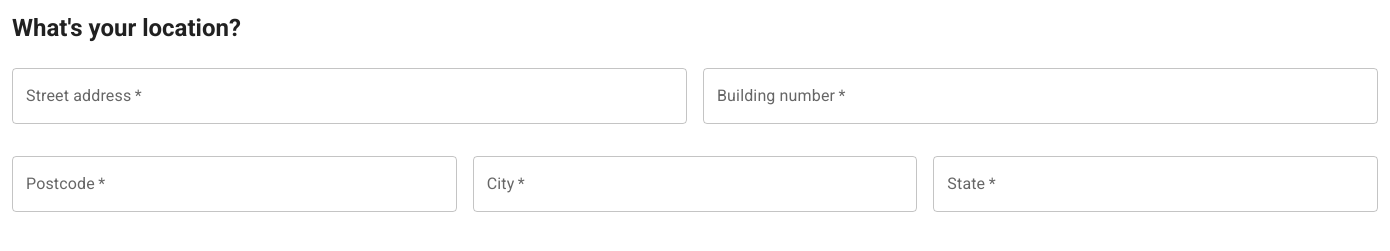
Test: LocationStep › should display an error if city is required
The width and height of the screenshot is (1390, 251).
Type "1" into the field labelled "City *". click: [695, 184]
box: x1=473 y1=156 x2=917 y2=212
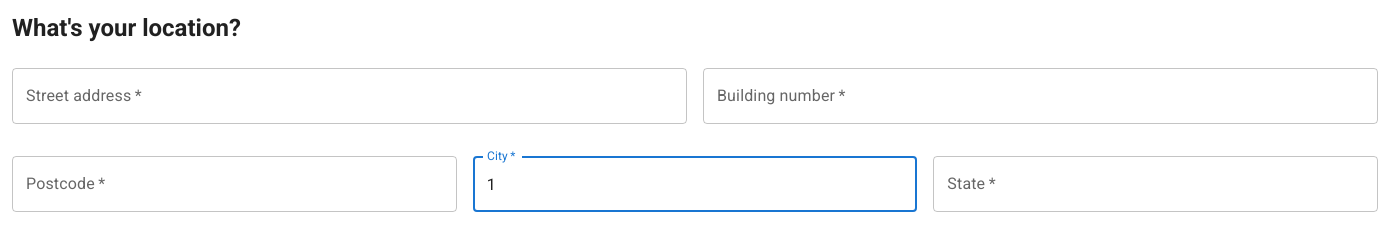
Clear the field labelled "City *". click: [695, 184]
box: x1=473 y1=156 x2=917 y2=212
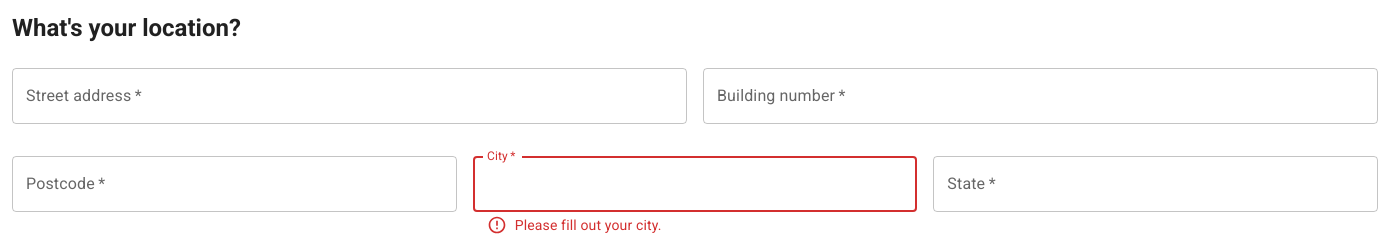
Check: the message shows "fill out your city", box x1=515 y1=217 x2=662 y2=233
